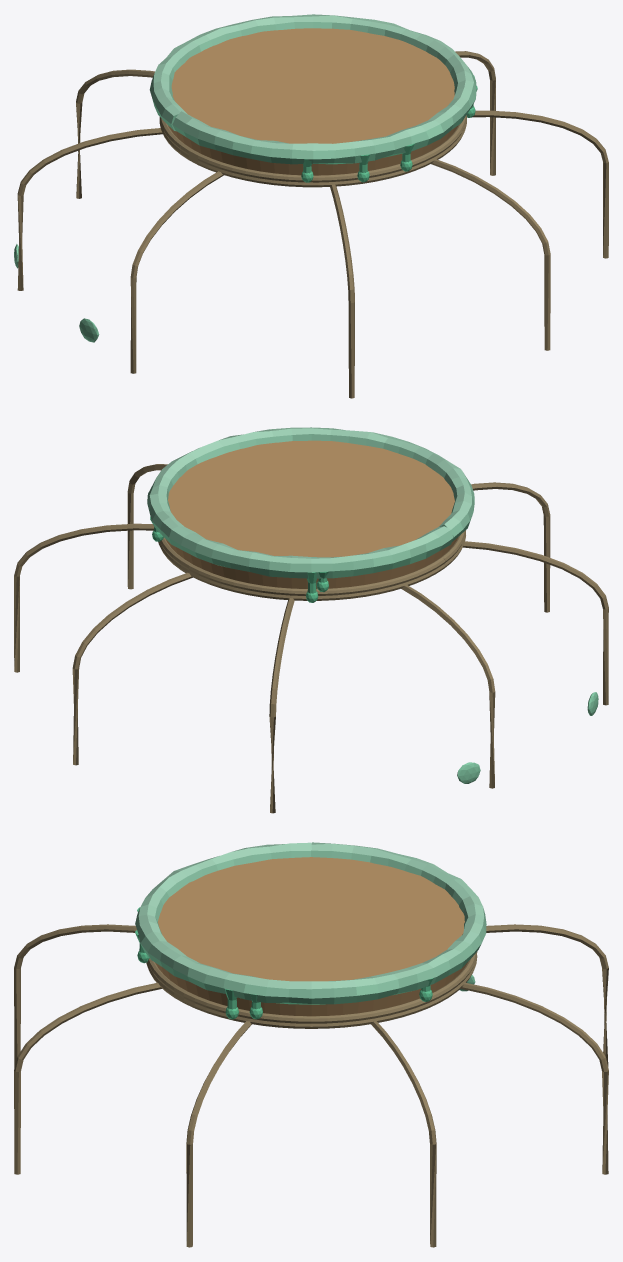
Rendered from goo_jar_trim_1_top.fbx.
3 views of the same model, one above another, from view 1: azimuth 30°, elevation 25°; view 2: azimuth 150°, elevation 25°; view 3: azimuth 270°, elevation 25° (orthographic). The views are drawn at different scales.
Parts seen in each view (by area): view 1: goo_jar_trim_1_top; view 2: goo_jar_trim_1_top; view 3: goo_jar_trim_1_top.
Part boxes in pixels (box(x1,y1,x2,y2)): goo_jar_trim_1_top: box(14, 14, 608, 398); goo_jar_trim_1_top: box(14, 427, 608, 813); goo_jar_trim_1_top: box(14, 842, 608, 1247).
Size of the model in its own units: 60.32 by 22.69 by 58.31.
